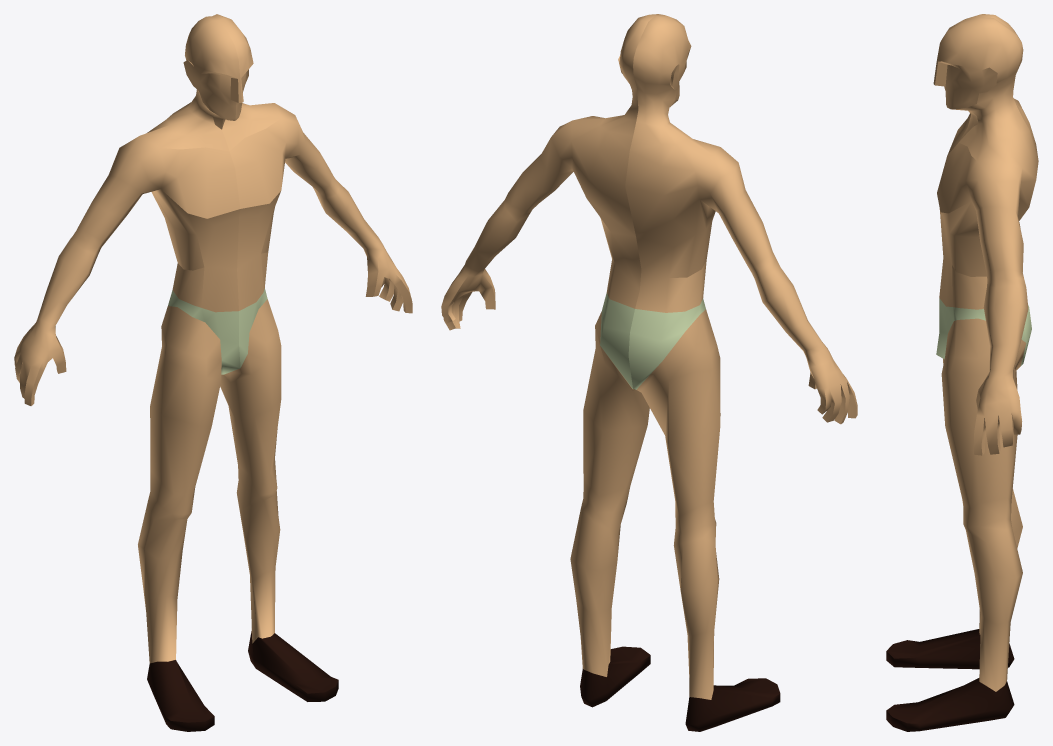
Rendered from Gladiator.fbx.
The picture shows the model from 3 angles, left to right: view 1: azimuth 30°, elevation 25°; view 2: azimuth 150°, elevation 25°; view 3: azimuth 270°, elevation 25°; orthographic projection. The views are drawn at different scales.
Parts seen in each view (by area): view 1: Gladiator; view 2: Gladiator; view 3: Gladiator.
Boxes of the visible parts, <box> form: Gladiator: <box>14,14,412,731</box>; Gladiator: <box>441,14,857,731</box>; Gladiator: <box>886,14,1038,731</box>.
Bounding box in the file's own units: 128 × 209 × 42.85.
